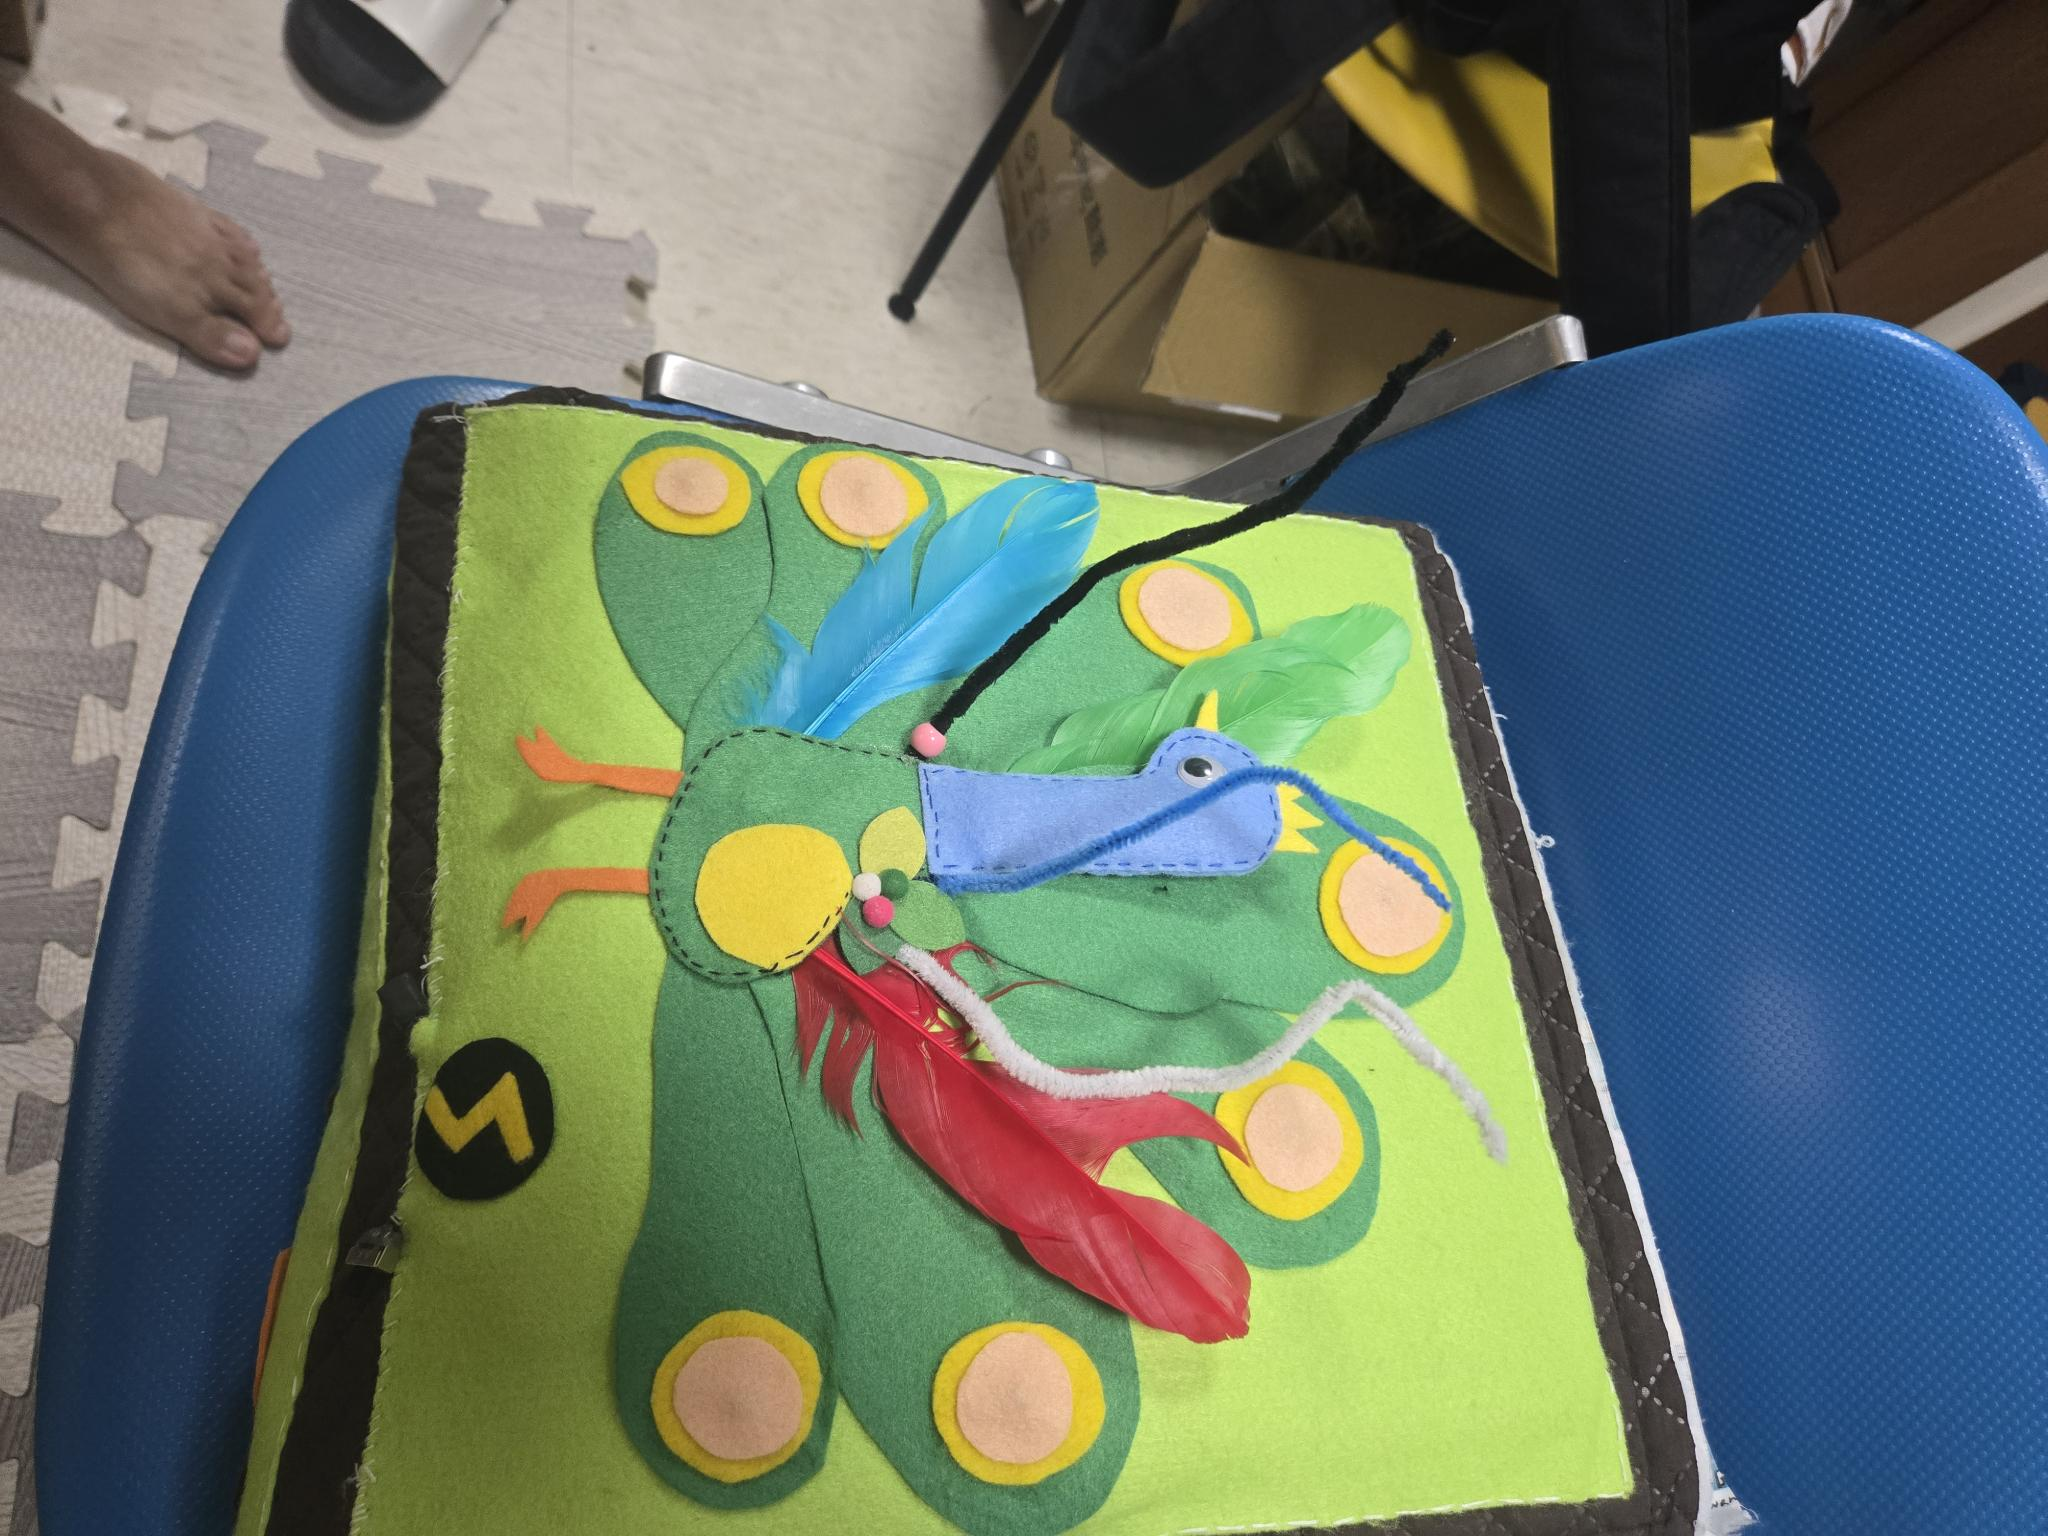bead: (906, 713, 956, 766)
